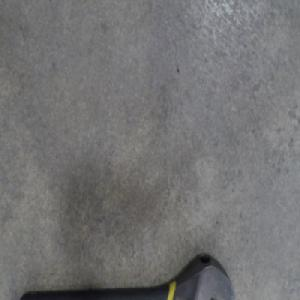AdjustableWrench: (21, 253, 233, 300)
